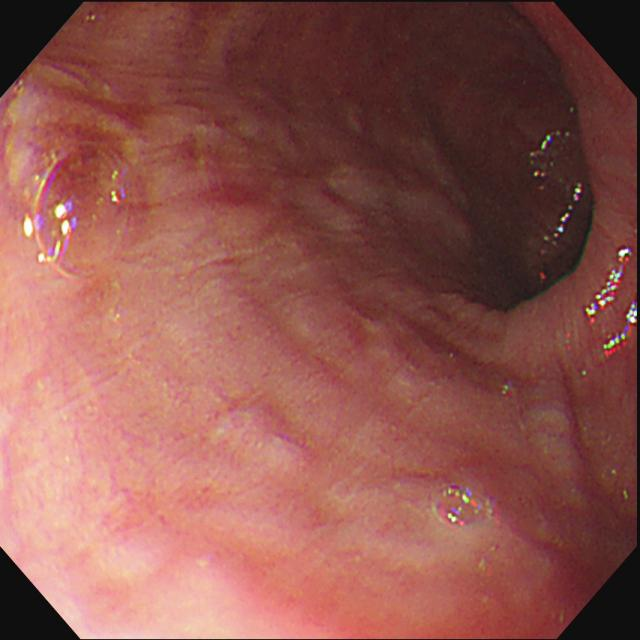A: (144, 100, 366, 250)
E: (436, 59, 608, 328)
T: (22, 142, 131, 277), (427, 481, 498, 535)
U: (583, 246, 638, 361), (529, 129, 573, 178), (552, 182, 585, 241)
